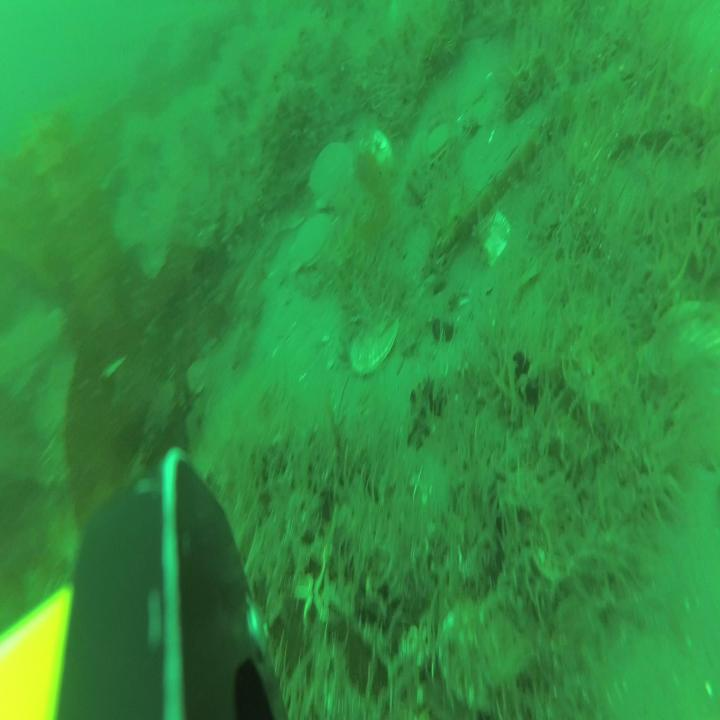scallop: (311, 142, 355, 212), (284, 212, 330, 272), (354, 309, 398, 370), (473, 211, 510, 260), (365, 134, 395, 174), (423, 124, 453, 164)
